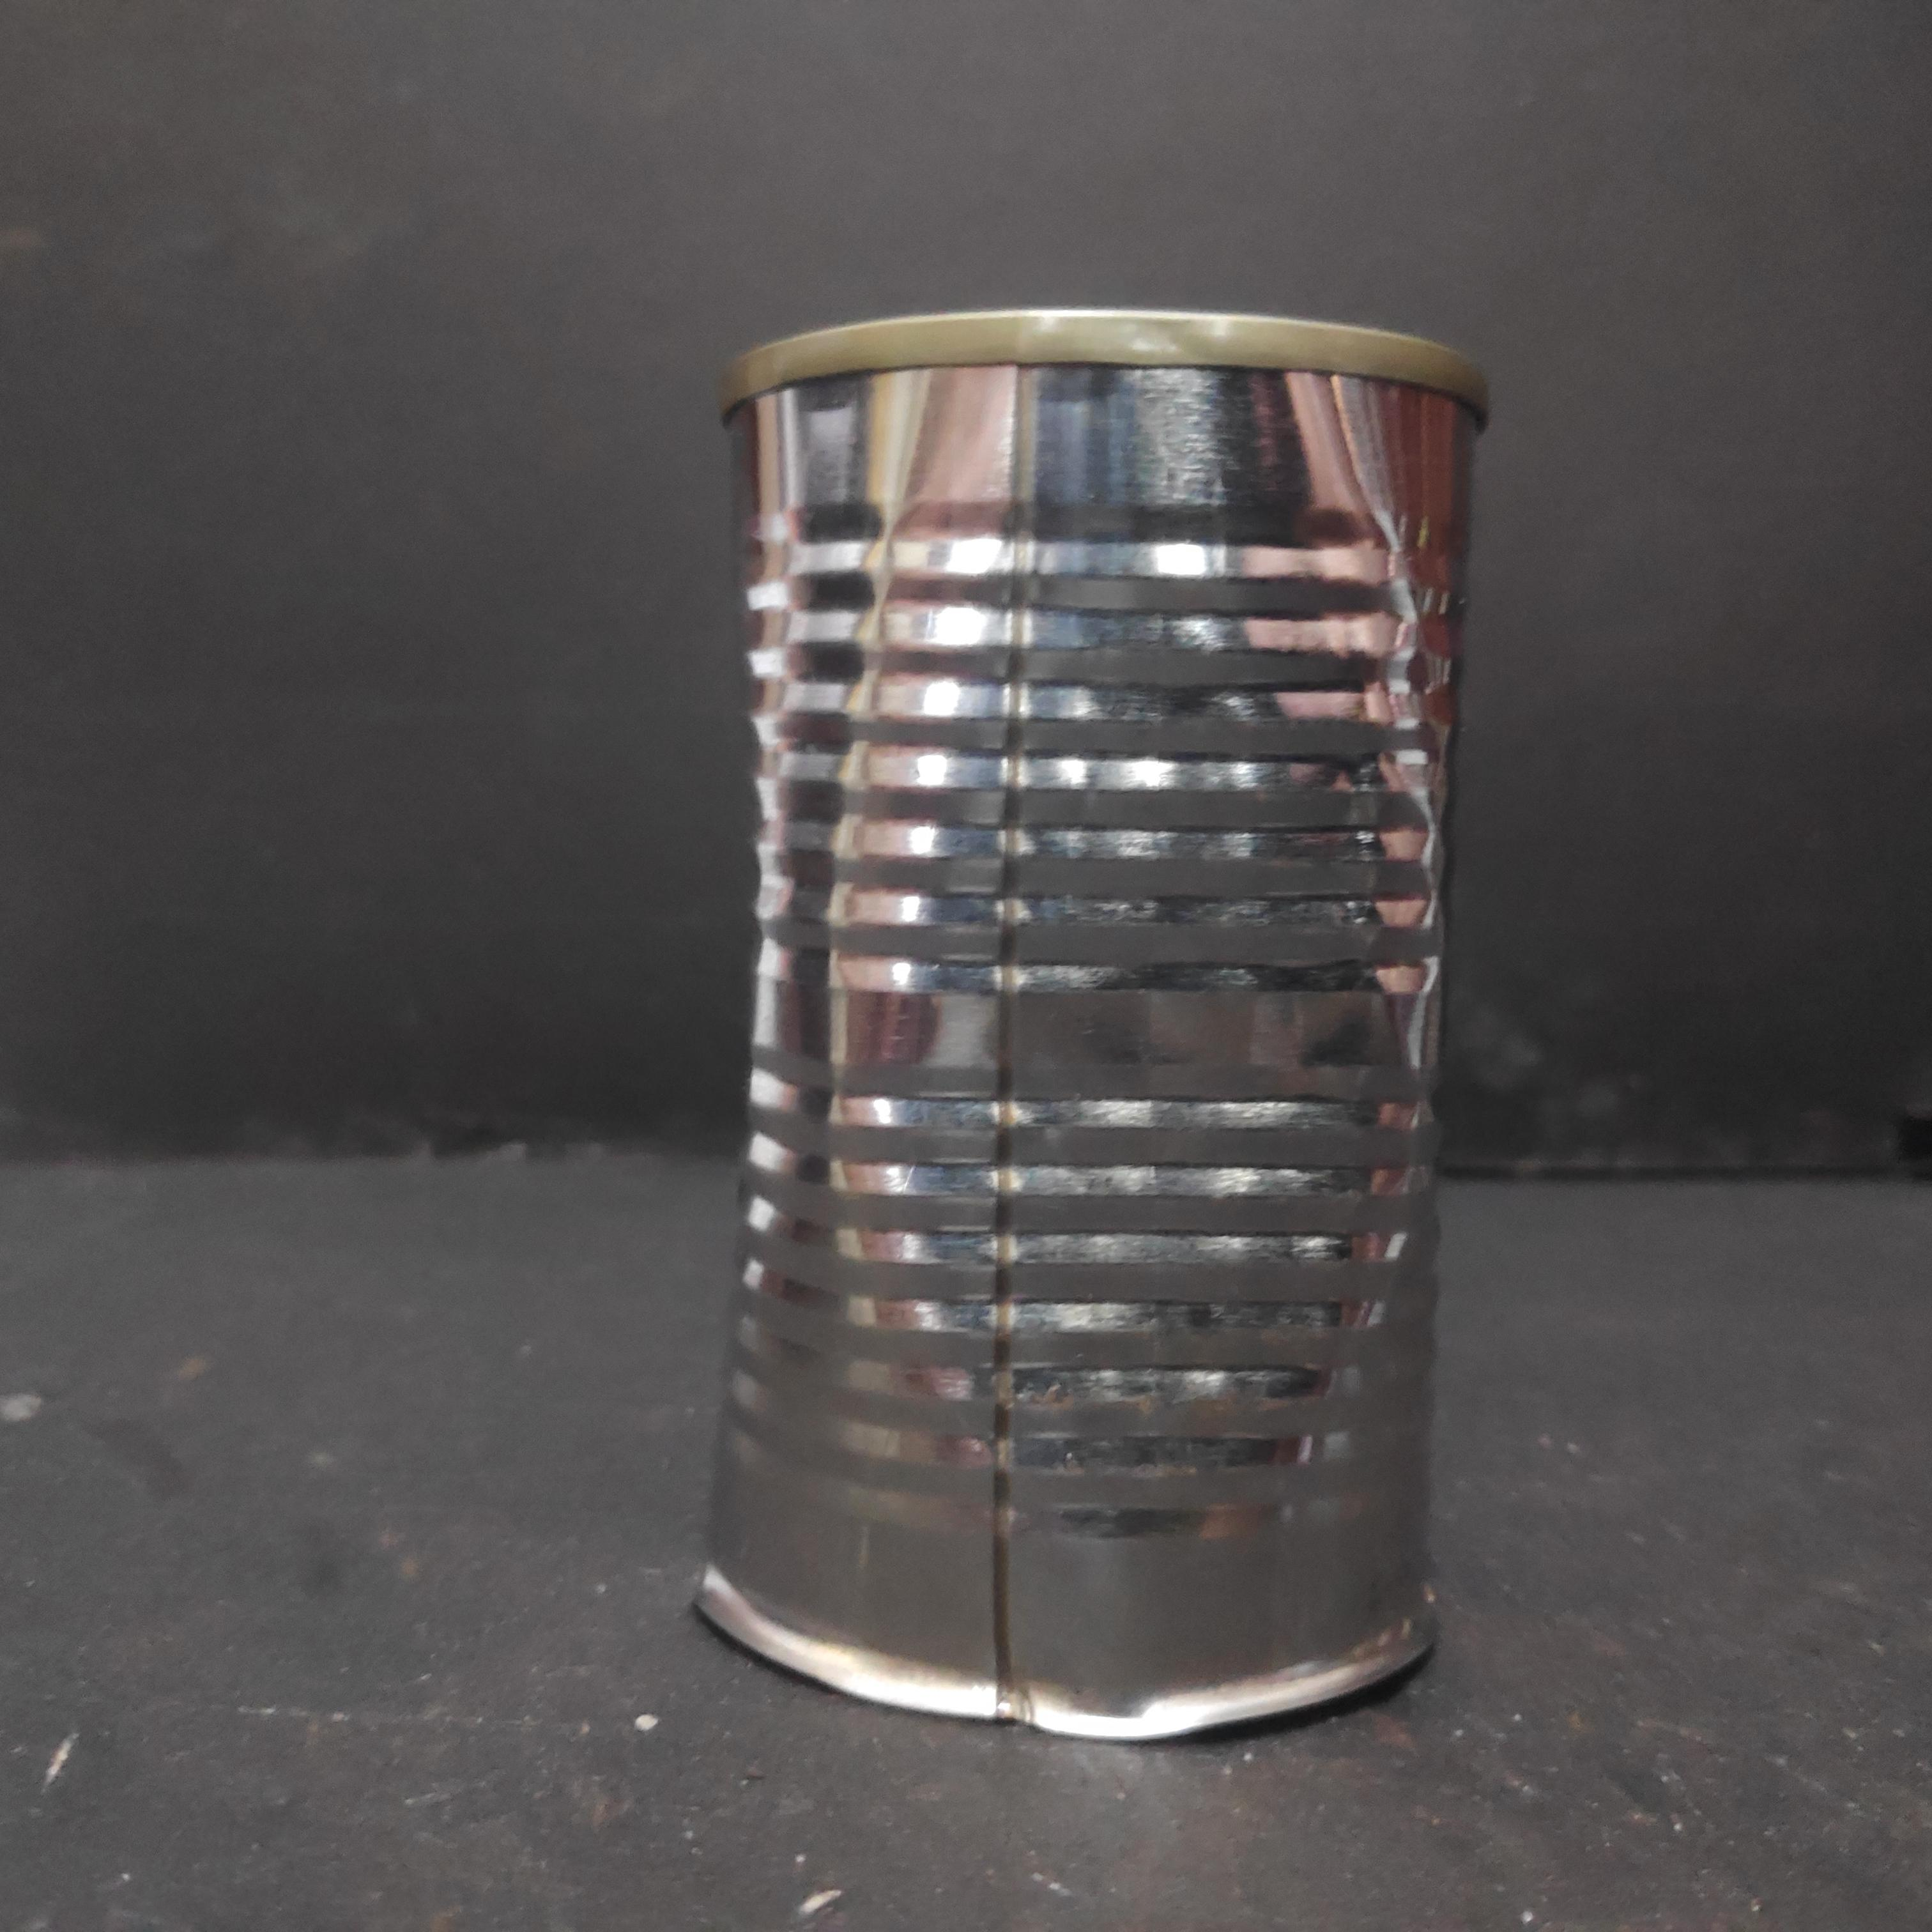Minor Defect: (693, 301, 1504, 1746)
